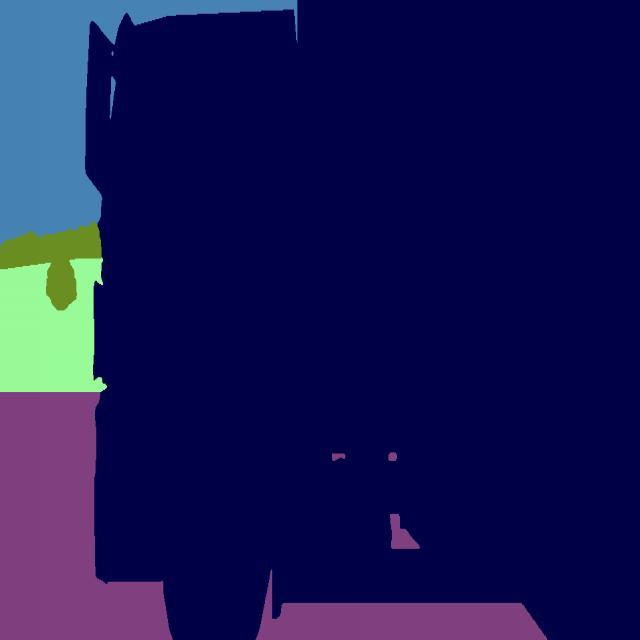unsafe: (83, 0, 640, 640)
